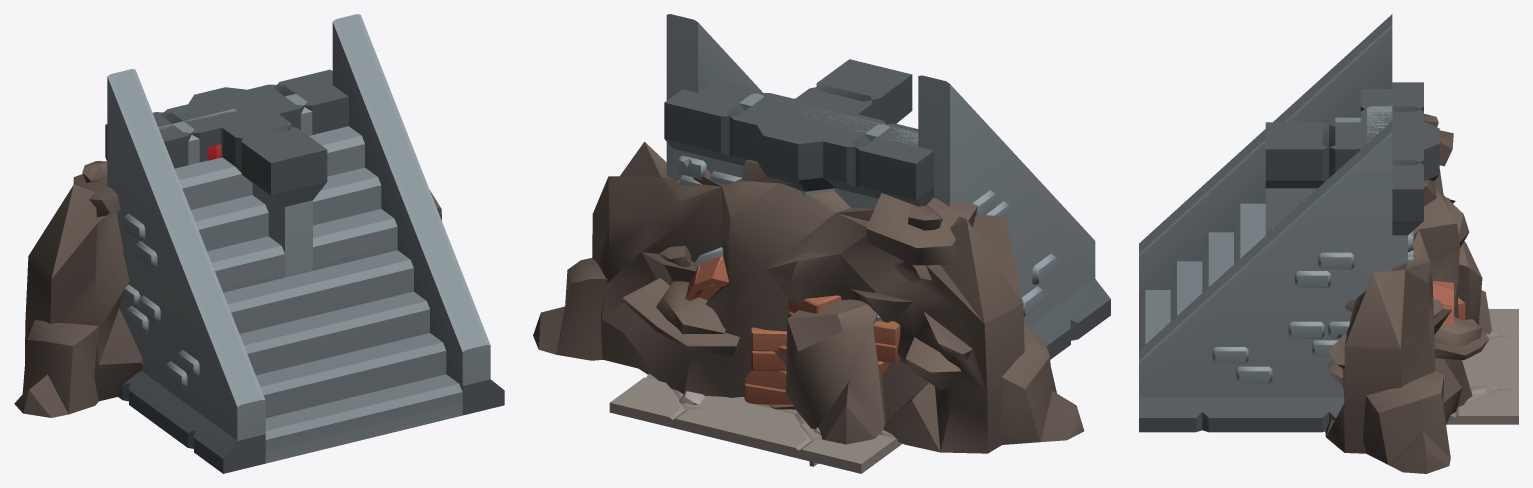
The model's file is kaykit-props.glb.
3 renders of one model, left to right at view 1: azimuth 30°, elevation 25°; view 2: azimuth 150°, elevation 25°; view 3: azimuth 270°, elevation 25°, orthographic. The views are drawn at different scales.
Visible parts, largest first — view 1: stairs, rubble_large, wall_corner, wall_arched, wall_half, wall, pillar; view 2: rubble_large, stairs, wall, floor_tile_large, wall_corner, wall_half, wall_arched, pillar, crates_stacked, keg_decorated, floor_tile_large_rocks, wall_doorway; view 3: stairs, rubble_large, wall_corner, wall, floor_tile_large, wall_arched, pillar, floor_dirt_large, keg_decorated.
Boxes of the visible parts, left/top/right/bottom form: stairs: left=107, top=14, right=504, bottom=473; rubble_large: left=14, top=161, right=441, bottom=417; wall_corner: left=169, top=103, right=327, bottom=277; wall_arched: left=105, top=70, right=348, bottom=160; wall_half: left=220, top=70, right=348, bottom=120; wall: left=105, top=69, right=332, bottom=168; pillar: left=188, top=87, right=279, bottom=157; rubble_large: left=533, top=141, right=1084, bottom=453; stairs: left=666, top=14, right=1110, bottom=359; wall: left=664, top=80, right=933, bottom=208; floor_tile_large: left=609, top=373, right=902, bottom=473; wall_corner: left=777, top=59, right=922, bottom=202; wall_half: left=664, top=87, right=809, bottom=184; wall_arched: left=674, top=80, right=933, bottom=208; pillar: left=757, top=98, right=858, bottom=196; crates_stacked: left=744, top=295, right=841, bottom=404; keg_decorated: left=685, top=247, right=900, bottom=374; floor_tile_large_rocks: left=681, top=393, right=820, bottom=440; wall_doorway: left=680, top=175, right=931, bottom=208; stairs: left=1139, top=14, right=1392, bottom=432; rubble_large: left=1325, top=114, right=1491, bottom=473; wall_corner: left=1265, top=109, right=1423, bottom=233; wall: left=1360, top=82, right=1423, bottom=268; floor_tile_large: left=1449, top=309, right=1518, bottom=417; wall_arched: left=1360, top=82, right=1423, bottom=265; pillar: left=1344, top=122, right=1439, bottom=181; floor_dirt_large: left=1446, top=385, right=1518, bottom=424; keg_decorated: left=1432, top=281, right=1453, bottom=324.
Size of the model in its own units: 8.13 by 6.3 by 6.
47 materials, 47 textured.
